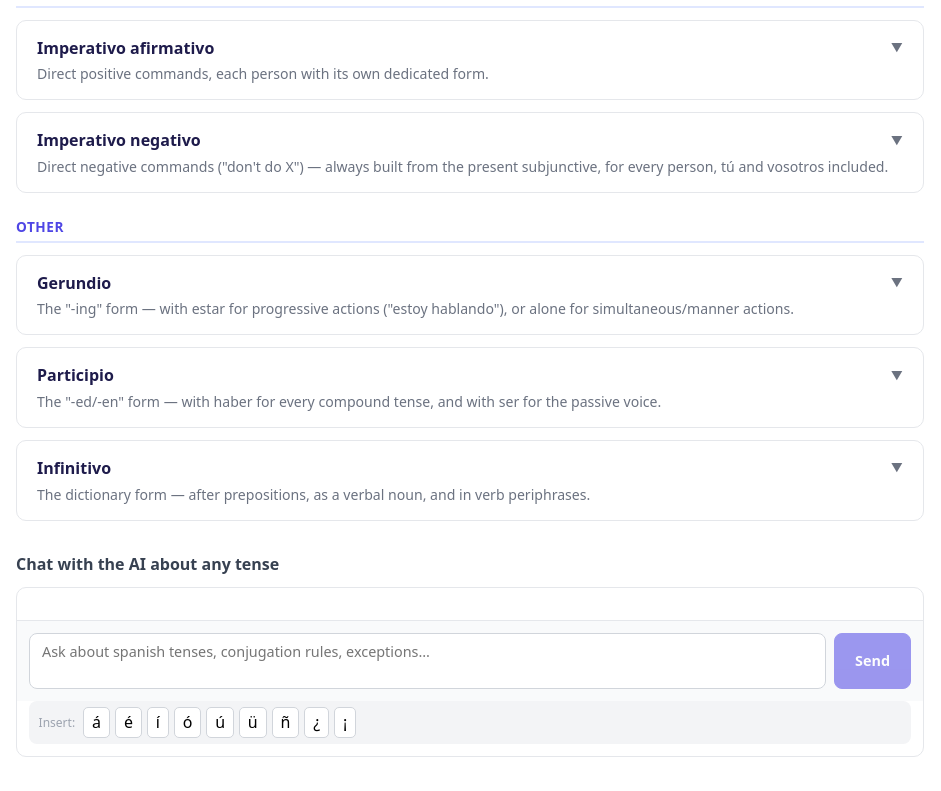
Test case: streamed AI replies › shows an error in the chat when the AI request fails
(page scrolled)
In the text box with placeholder "Ask about spanish tenses, conjugation rules, exceptions…": (428, 660) left=29, top=632, right=826, bottom=688, type "hola"
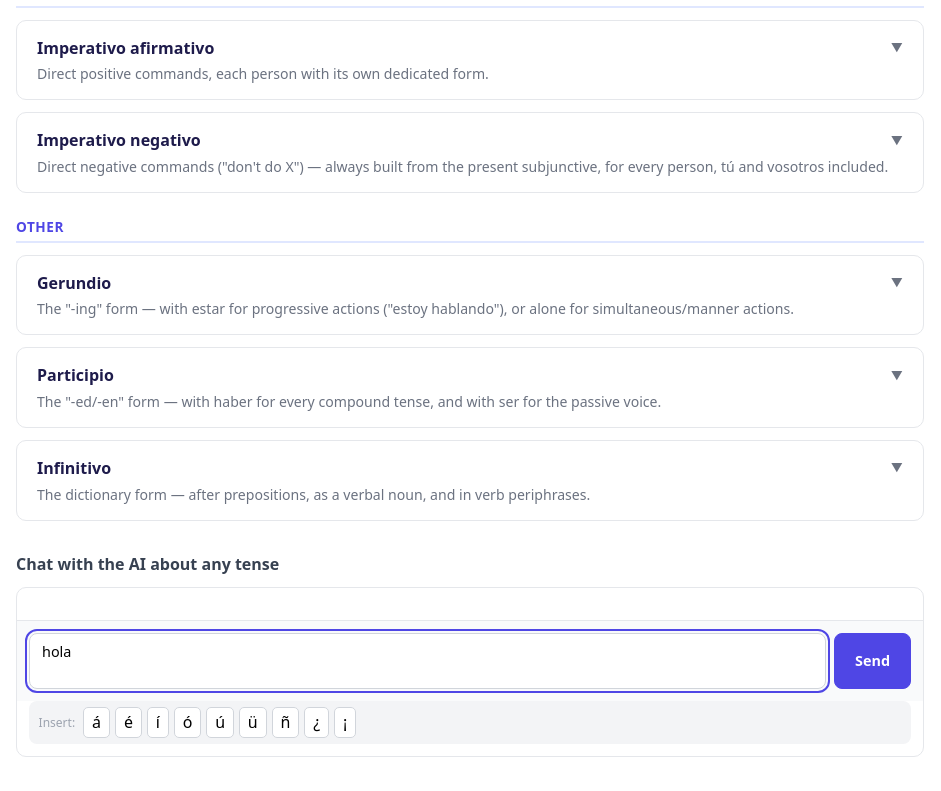
Click the button "Send": (872, 660) left=834, top=632, right=911, bottom=688
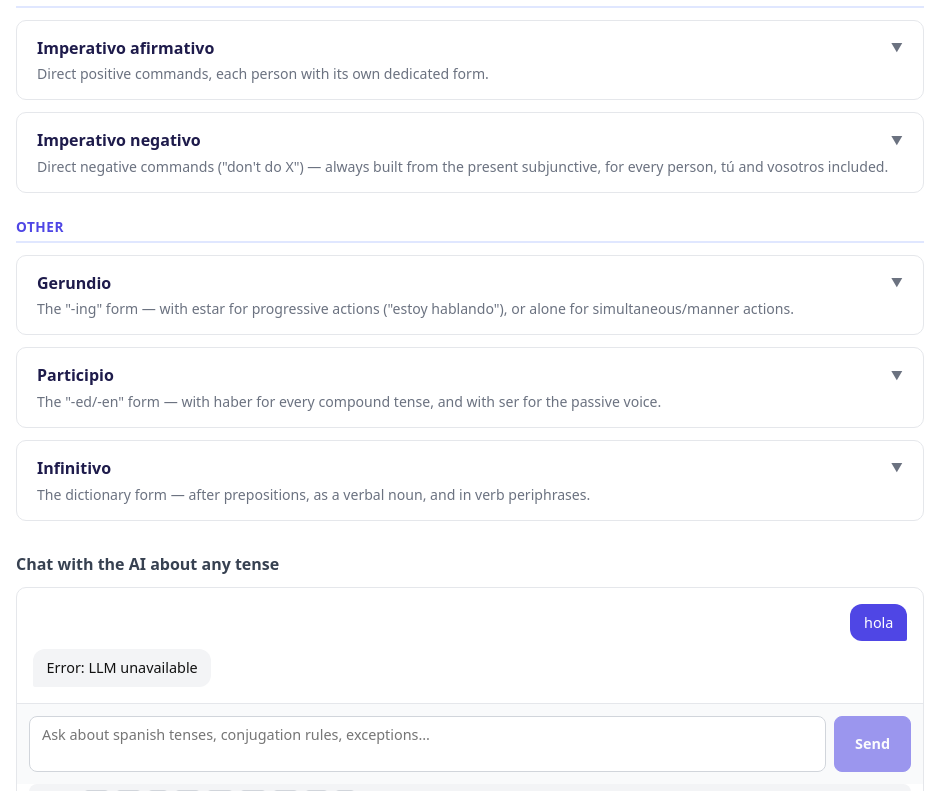
Expected: the text "Error: LLM unavailable" is shown, left=33, top=649, right=211, bottom=687
